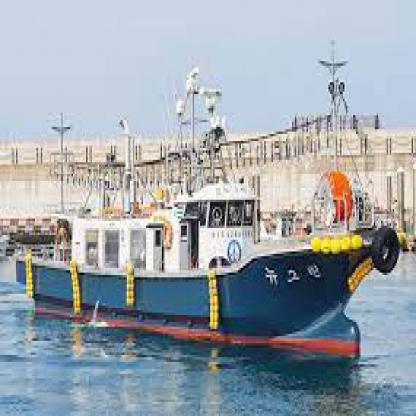fish-b: (12, 167, 403, 369)
